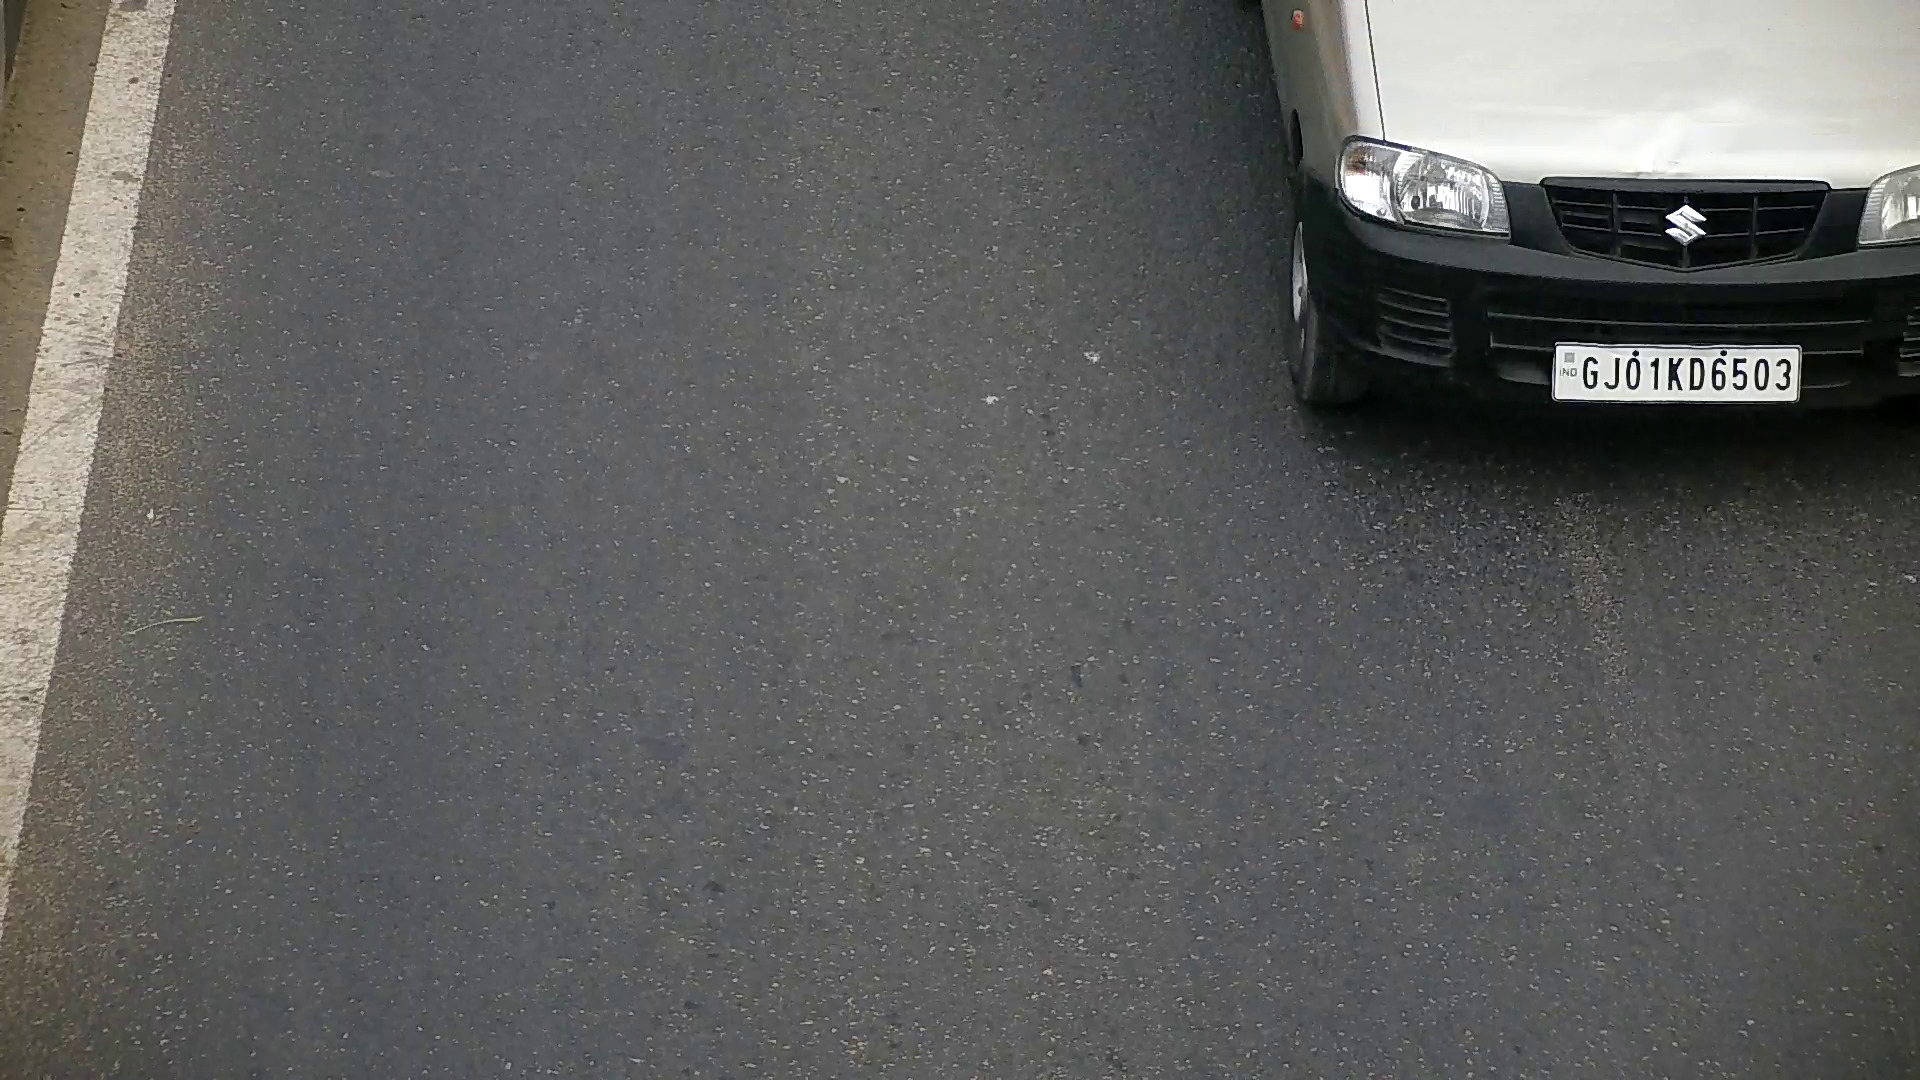numberplate: (1546, 337, 1806, 404)
